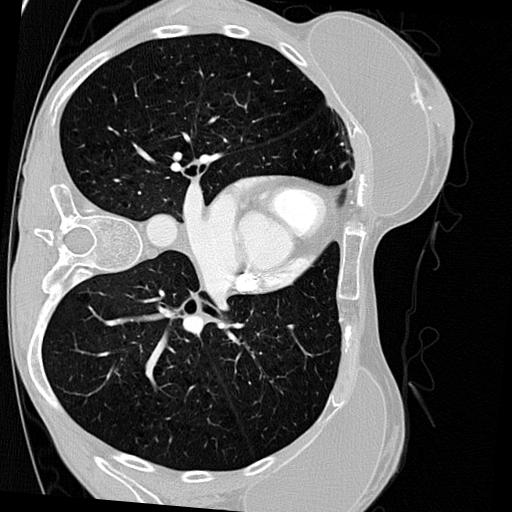nodule: (171, 151, 187, 167)
